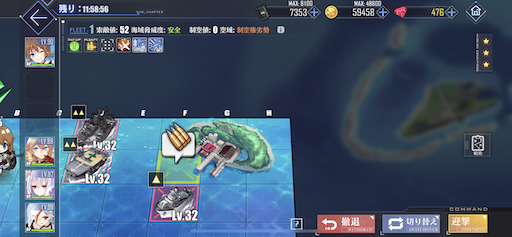lv1: (149, 171, 198, 219)
lv2: (61, 139, 109, 185), (71, 104, 117, 147)
